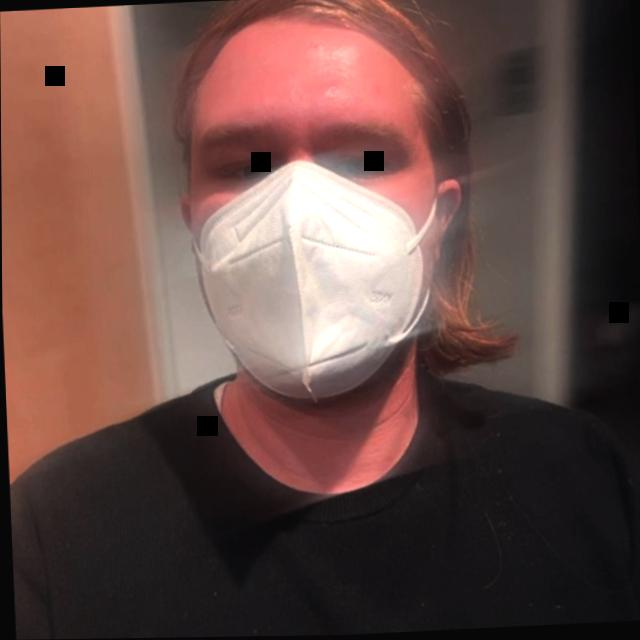Mask: (148, 0, 508, 408)
